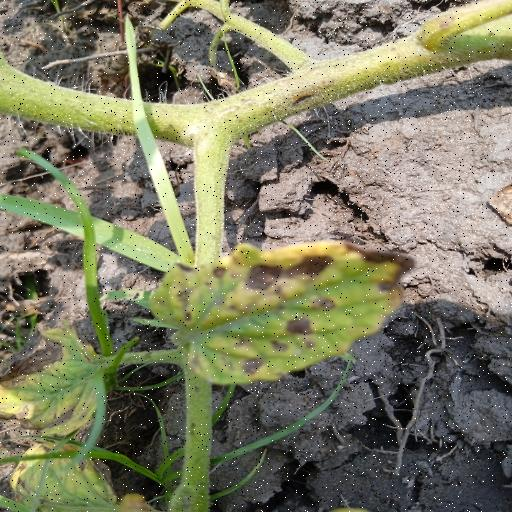Tomato_Brown_Spots: (156, 237, 421, 388)
